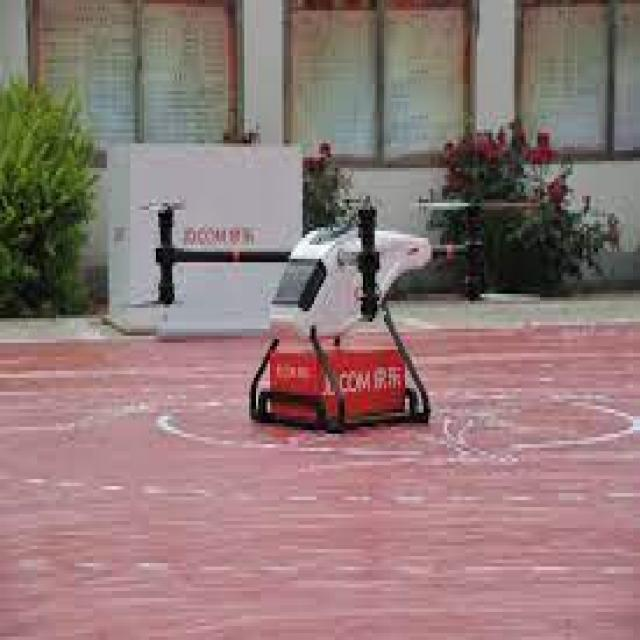plane: (135, 174, 550, 440)
